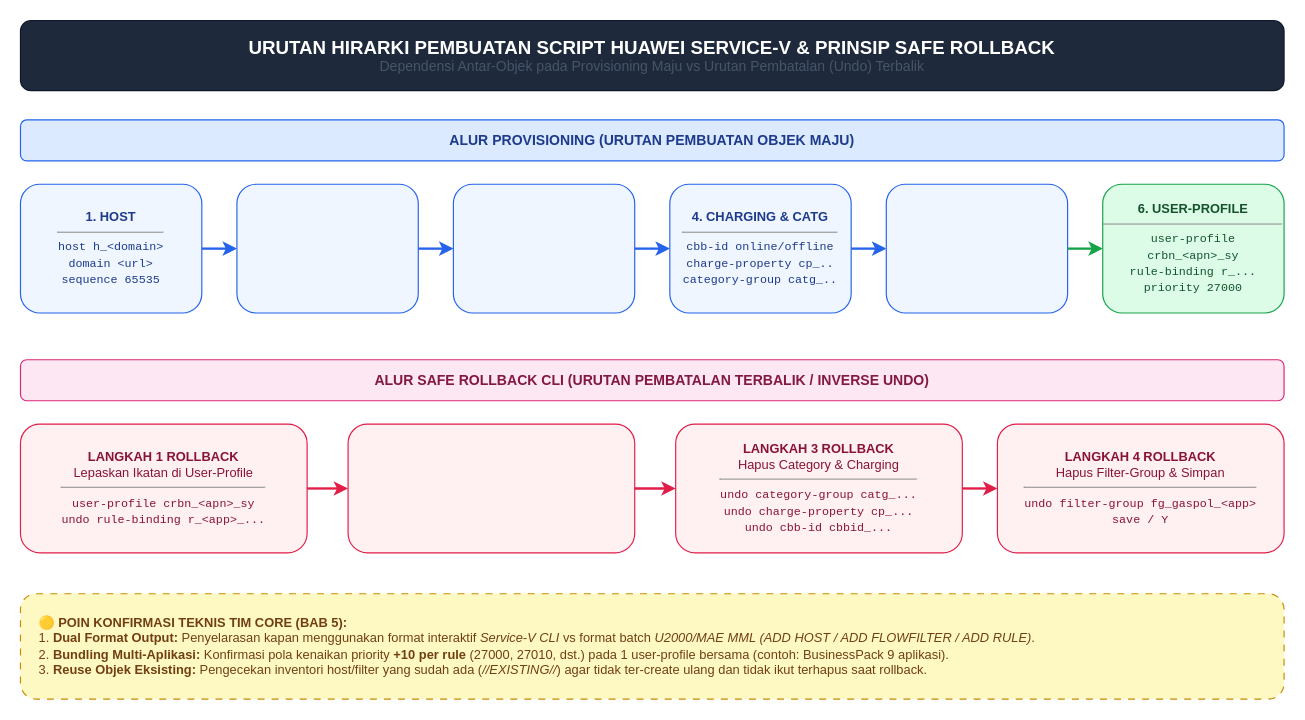
Image size: 1305x720. Some labels were removed from this diagram. The centre of each missing label's shape, as x and y in pixels:
"2. FILTER filter f_<domain> l34-protocol any host h_<domain>" goes at pixel 327 248.
"3. FILTER-GROUP filter-group fg_gaspol_<app> filter f_<domain>" goes at pixel 543 248.
"5. RULE DEFINITION rule r_<app>_<rg>_<sid> filter-group fg_... priority 27000" goes at pixel 976 248.
"LANGKAH 2 ROLLBACK Hapus Definisi Rule undo rule r_<app>_<rg>_<sid>" goes at pixel 491 488.
